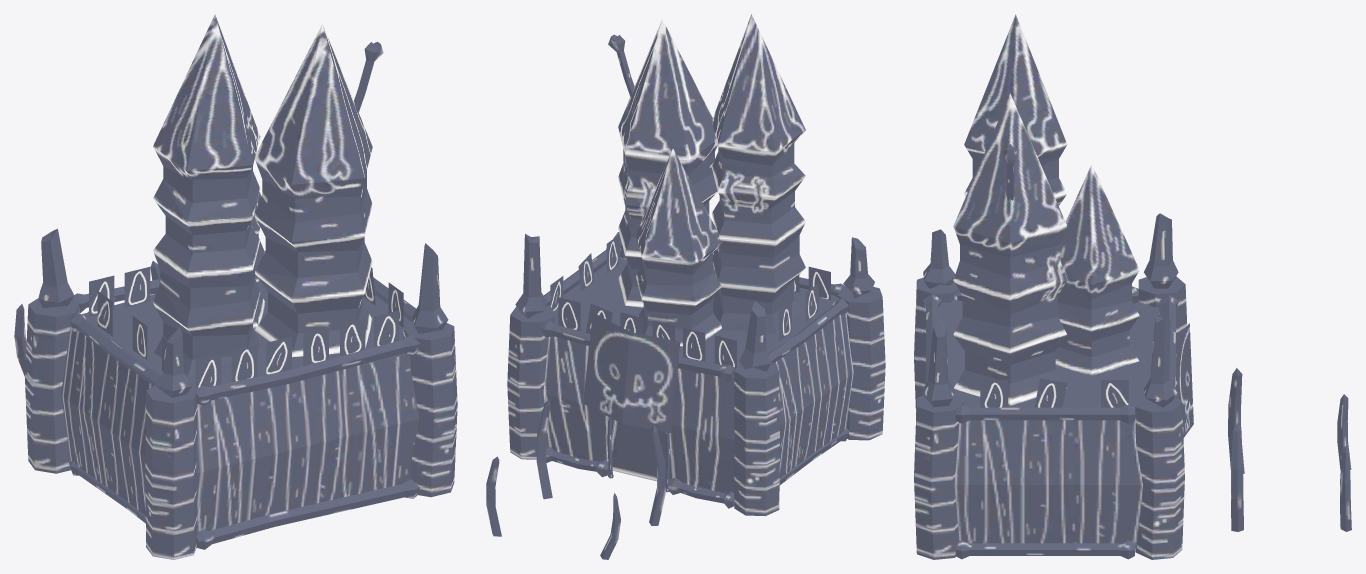
Rendered from PalaceOfBone.glb.
The picture shows the model from 3 angles, left to right: view 1: azimuth 30°, elevation 25°; view 2: azimuth 150°, elevation 25°; view 3: azimuth 270°, elevation 25°; orthographic projection. The views are drawn at different scales.
Parts seen in each view (by area): view 1: PalaceOfBone, PalaceOfBone_Alpha; view 2: PalaceOfBone, PalaceOfBone_Alpha; view 3: PalaceOfBone, PalaceOfBone_Alpha.
Part boxes in pixels (x1,y1,x2,y2): PalaceOfBone: [14, 14, 457, 559]; PalaceOfBone_Alpha: [89, 267, 403, 388]; PalaceOfBone: [486, 14, 885, 559]; PalaceOfBone_Alpha: [550, 234, 830, 432]; PalaceOfBone: [914, 14, 1351, 559]; PalaceOfBone_Alpha: [980, 323, 1193, 437].
Size of the model in its own units: 0.2389 by 0.3678 by 0.3151.
1 material, 1 textured.
